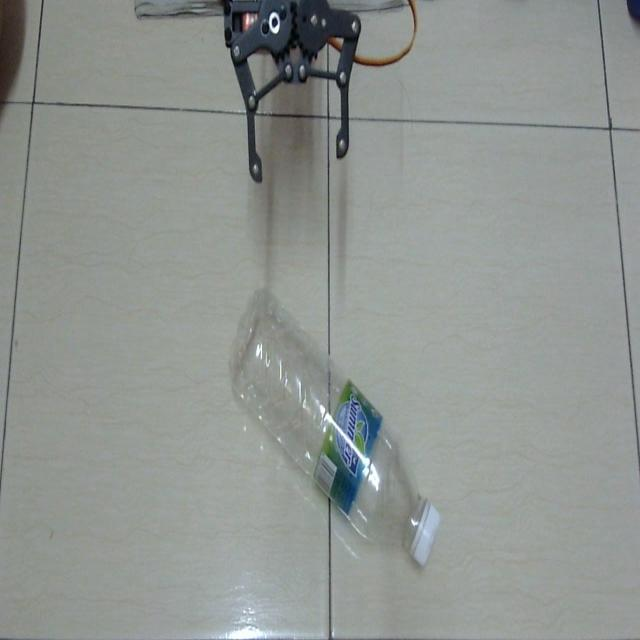Plastic-laydown_45left-rotation: (225, 277, 445, 579)
